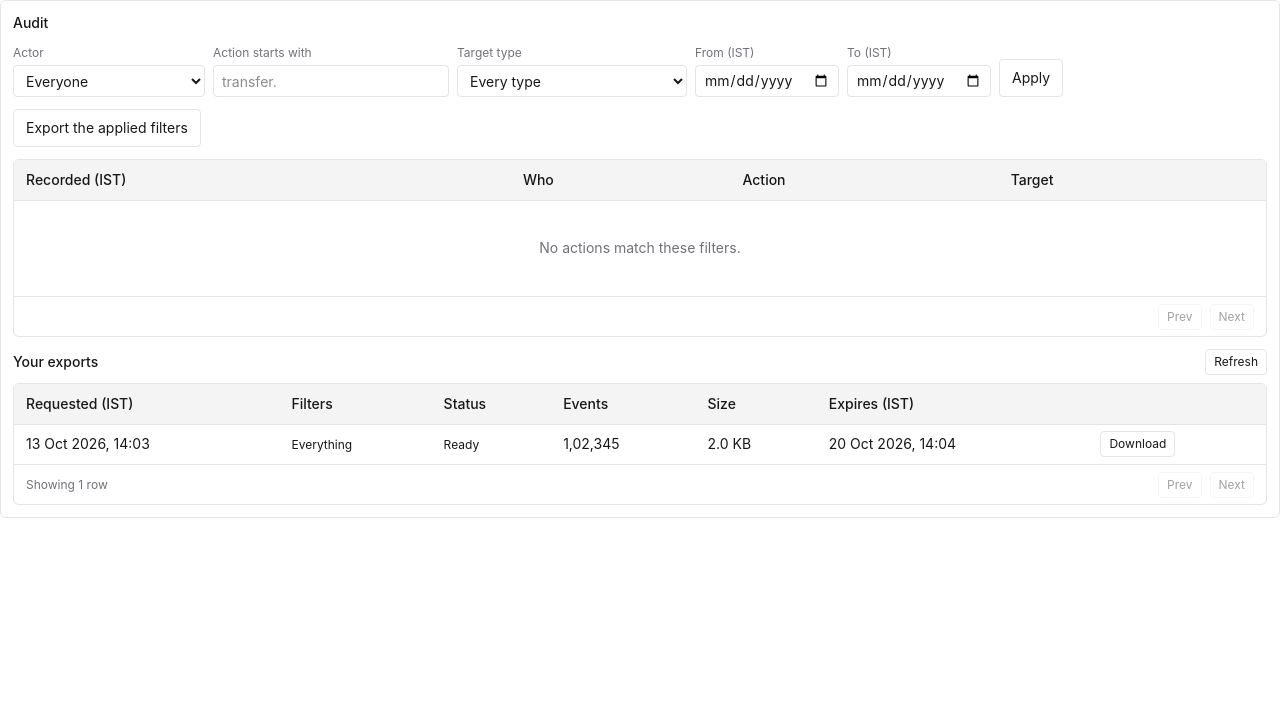
Scenario: Your exports (9-3b) › a refused download (409 expired, 404) shows its reason and reloads the list
What coordinates should you click on to do the following:
click the button "Download"
I would click on:
 (1138, 444)
Its box is [1100,431,1175,457].
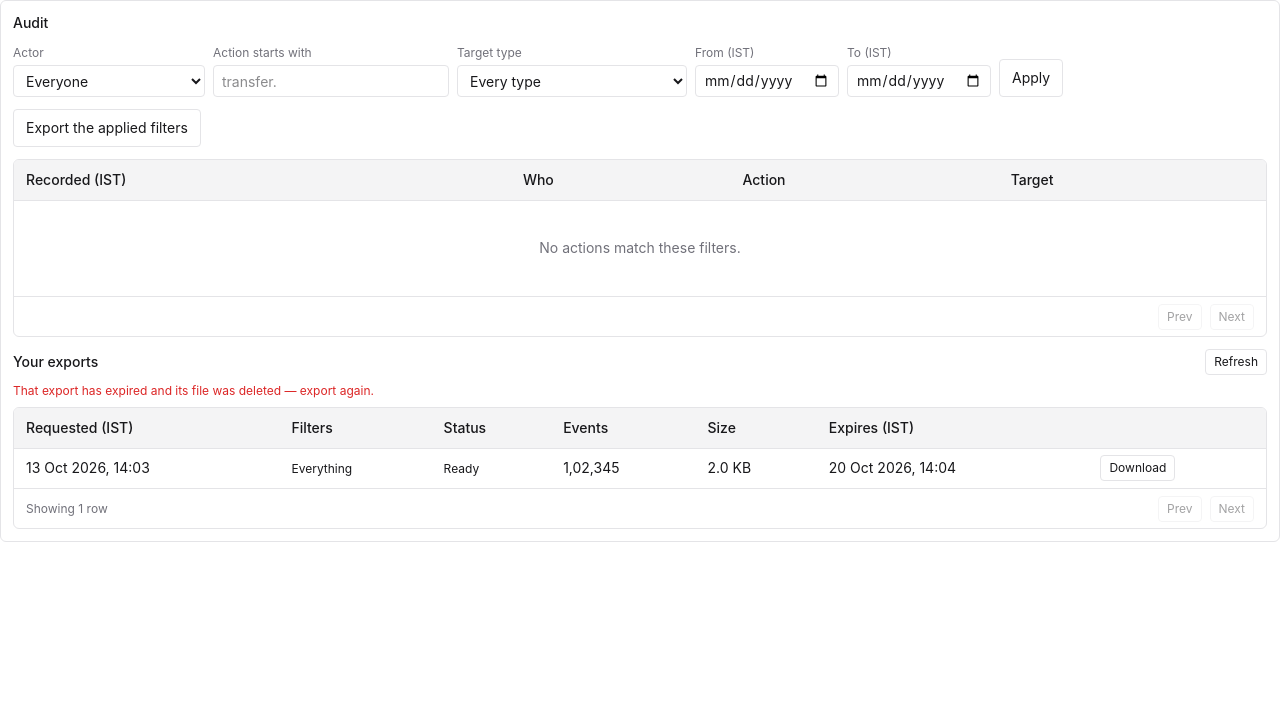
expect the message "That export has expired and its file was deleted — export again." is shown: met, box [13,383,374,398]
What coordinates should you click on to do the following:
click the button "Download"
I would click on:
 (1138, 468)
Its box is [1100,455,1175,481].
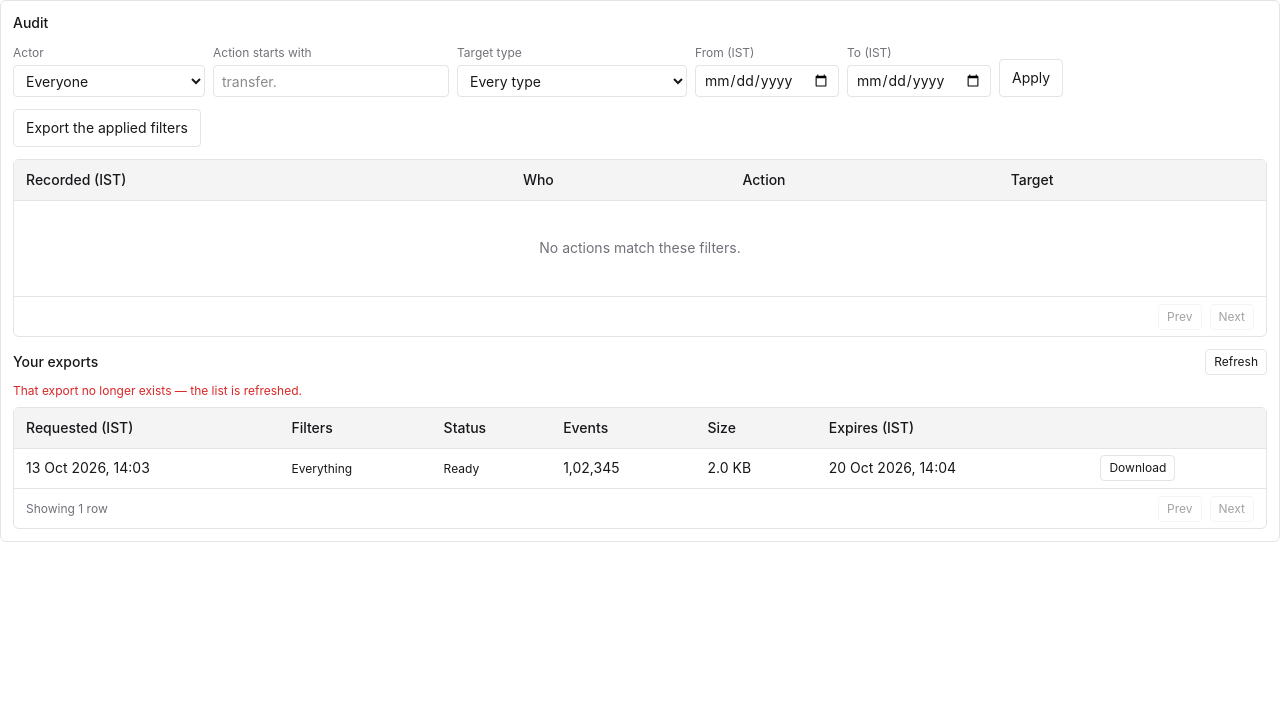
expect the message "That export no longer exists — the list is refreshed." is shown: met, box [13,383,302,398]
